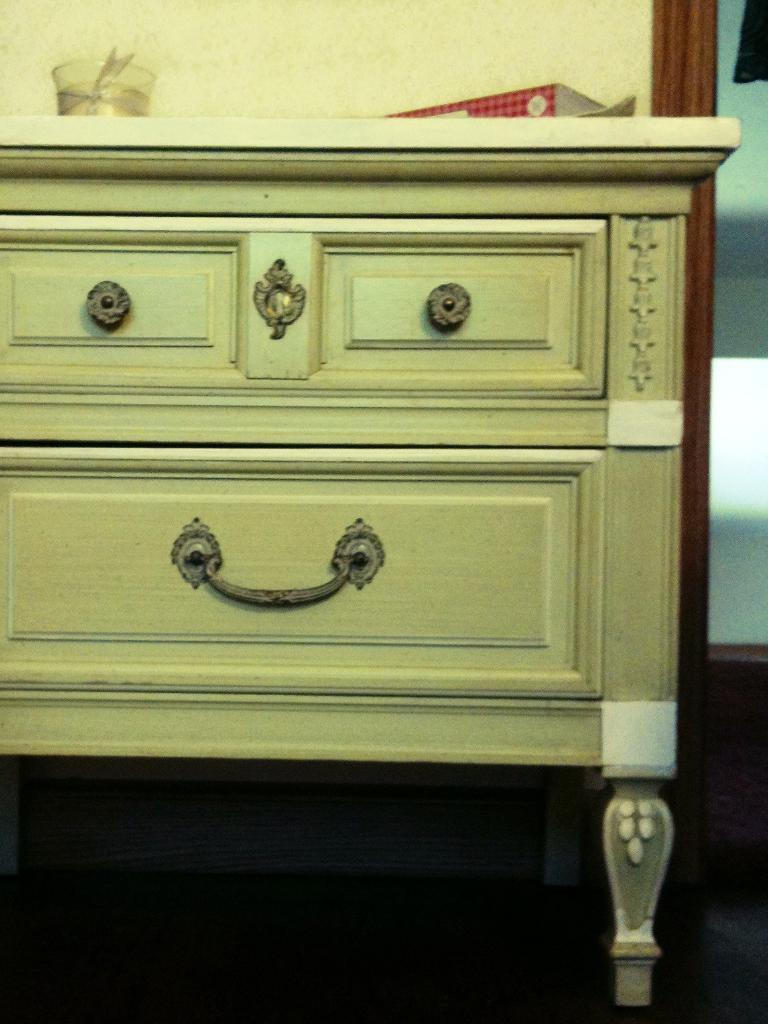cabinet_door: (0, 460, 577, 678), (321, 259, 586, 374), (5, 245, 234, 367)
handle: (190, 518, 364, 623), (419, 270, 469, 344), (81, 280, 134, 346)
